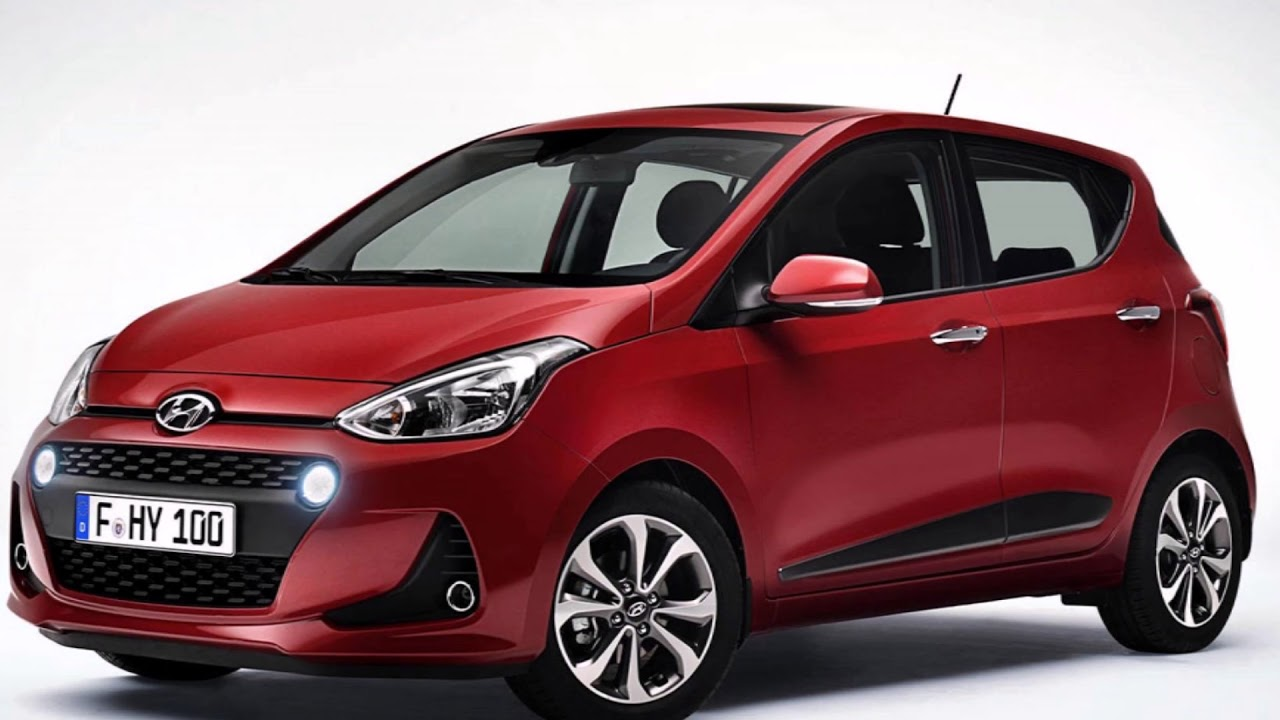i10: (5, 63, 1272, 720)
